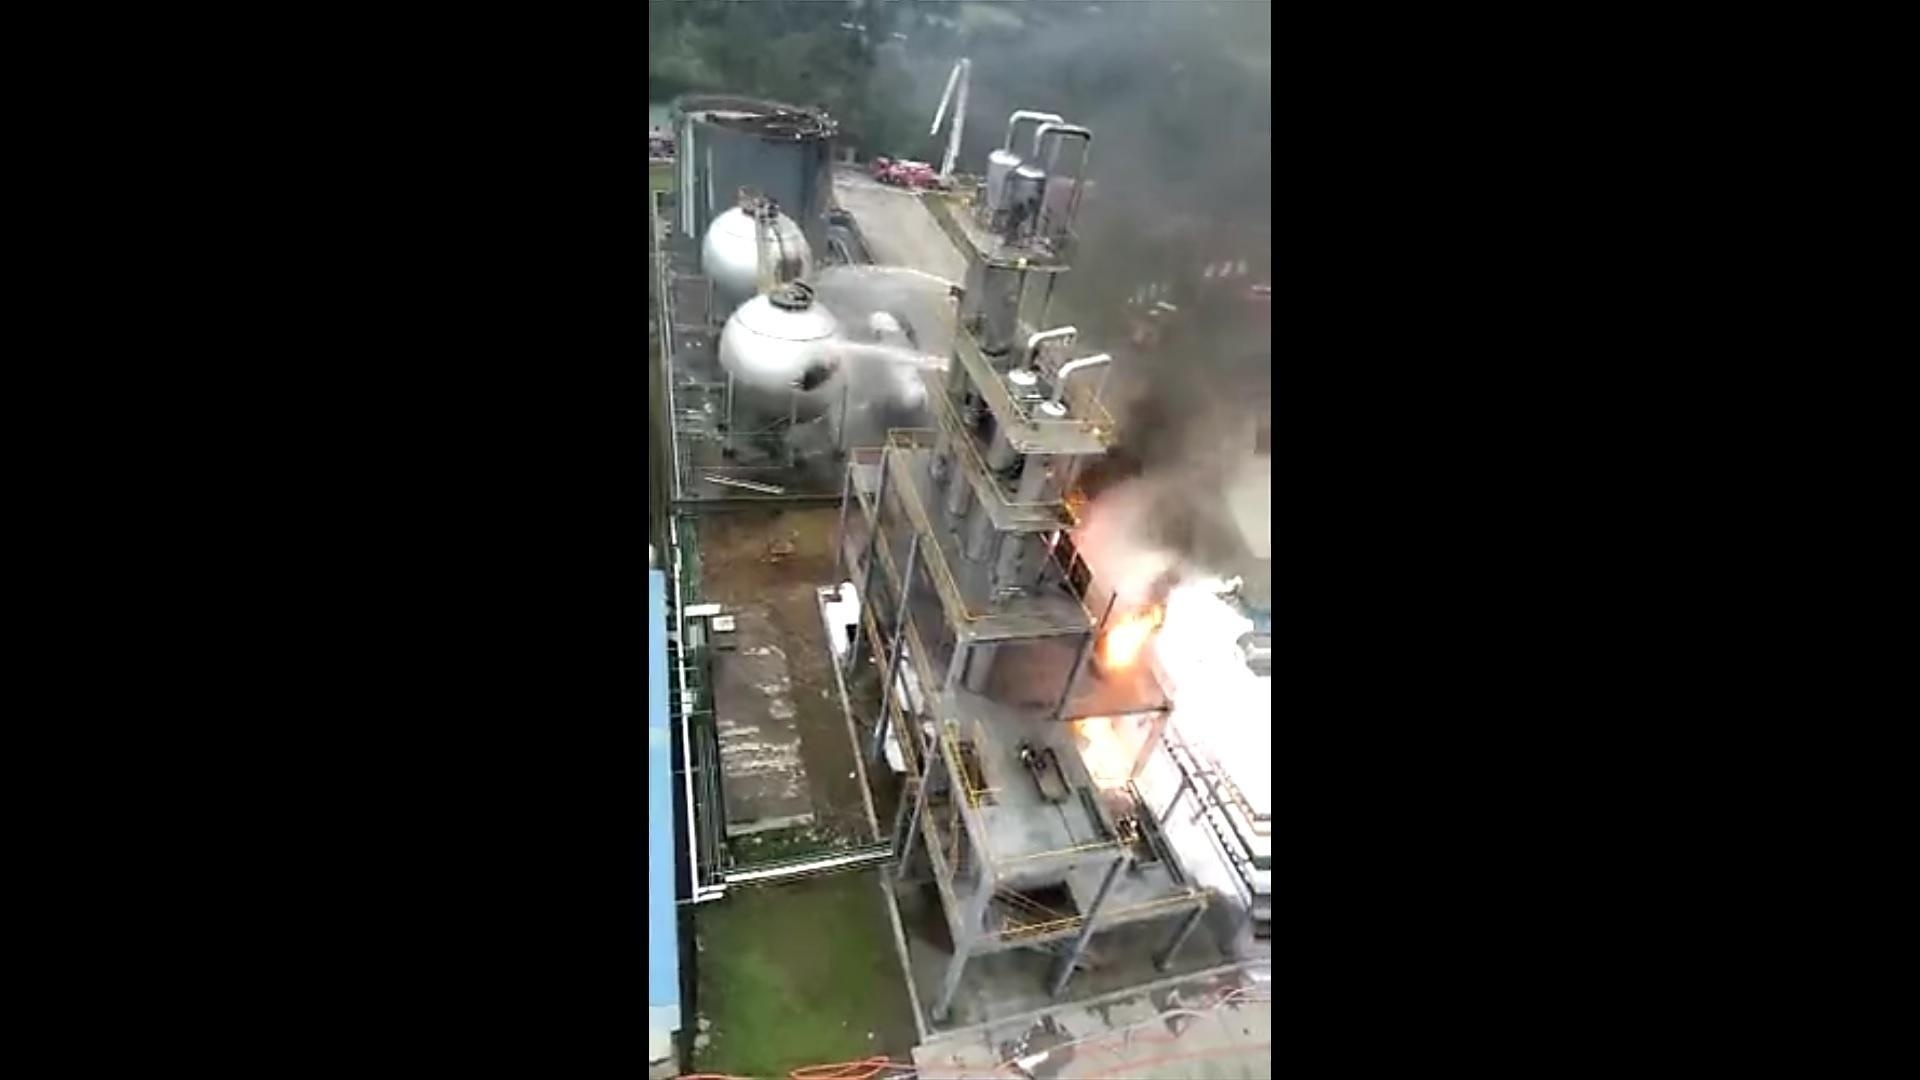fire: (1098, 596, 1164, 675)
